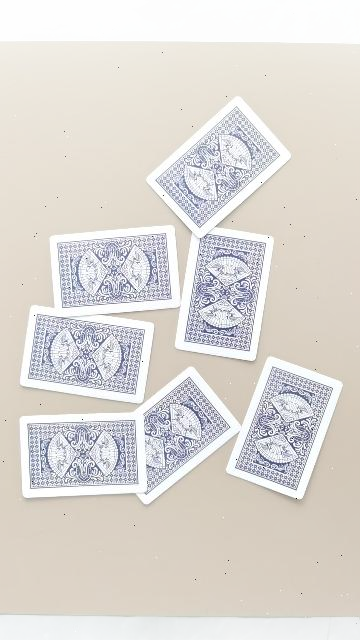card: (146, 96, 290, 238), (226, 358, 342, 499), (138, 366, 240, 504), (175, 228, 274, 361), (20, 305, 154, 402), (50, 225, 180, 318), (20, 412, 146, 498)
